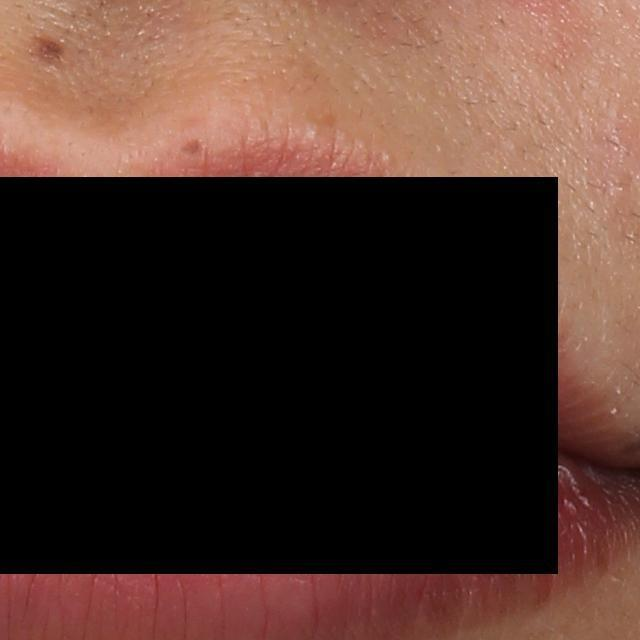nevus: (35, 37, 63, 70), (178, 137, 206, 165)
